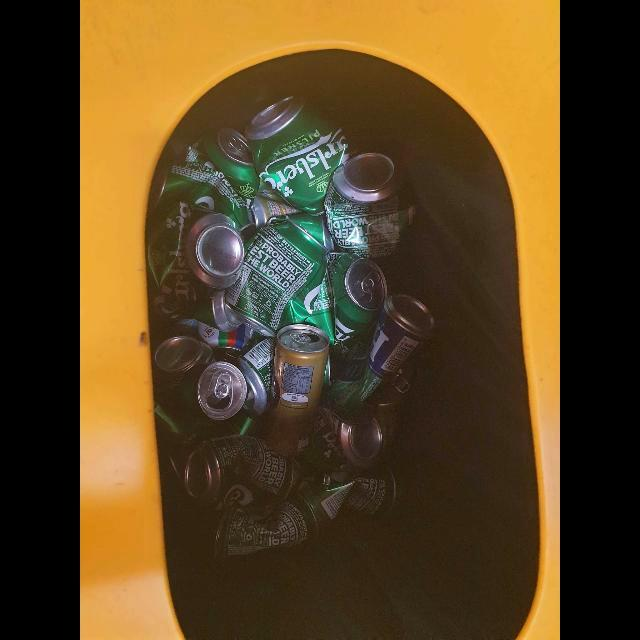aluminum: (331, 294, 440, 423), (245, 97, 349, 216), (225, 221, 328, 336), (325, 152, 419, 264), (146, 201, 244, 302), (262, 323, 329, 460), (145, 161, 255, 240), (183, 435, 293, 511), (306, 252, 389, 346), (294, 463, 395, 531), (212, 494, 316, 559), (184, 126, 261, 210), (152, 363, 246, 420), (321, 402, 388, 468), (151, 292, 241, 331), (234, 336, 276, 417), (197, 322, 263, 365), (377, 364, 407, 457), (247, 195, 301, 241), (154, 337, 217, 371)
